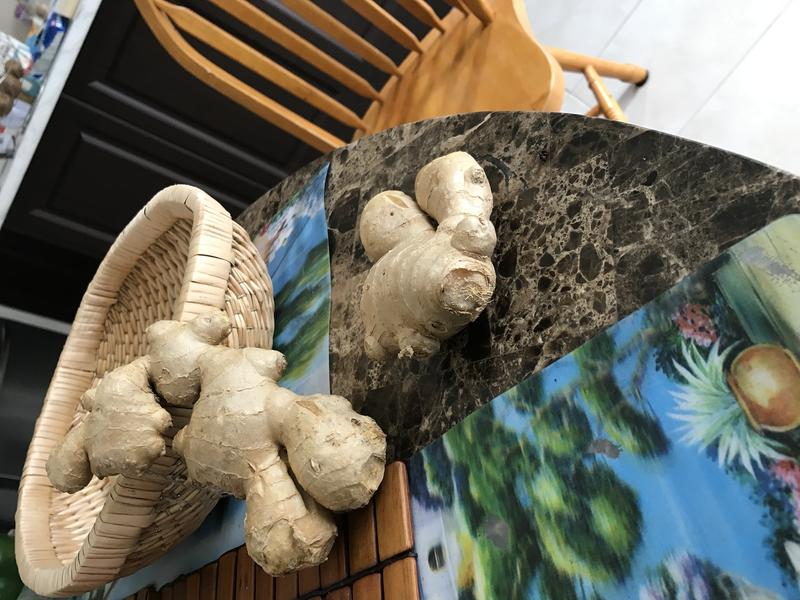ginger: (45, 302, 393, 583), (350, 142, 506, 377)
